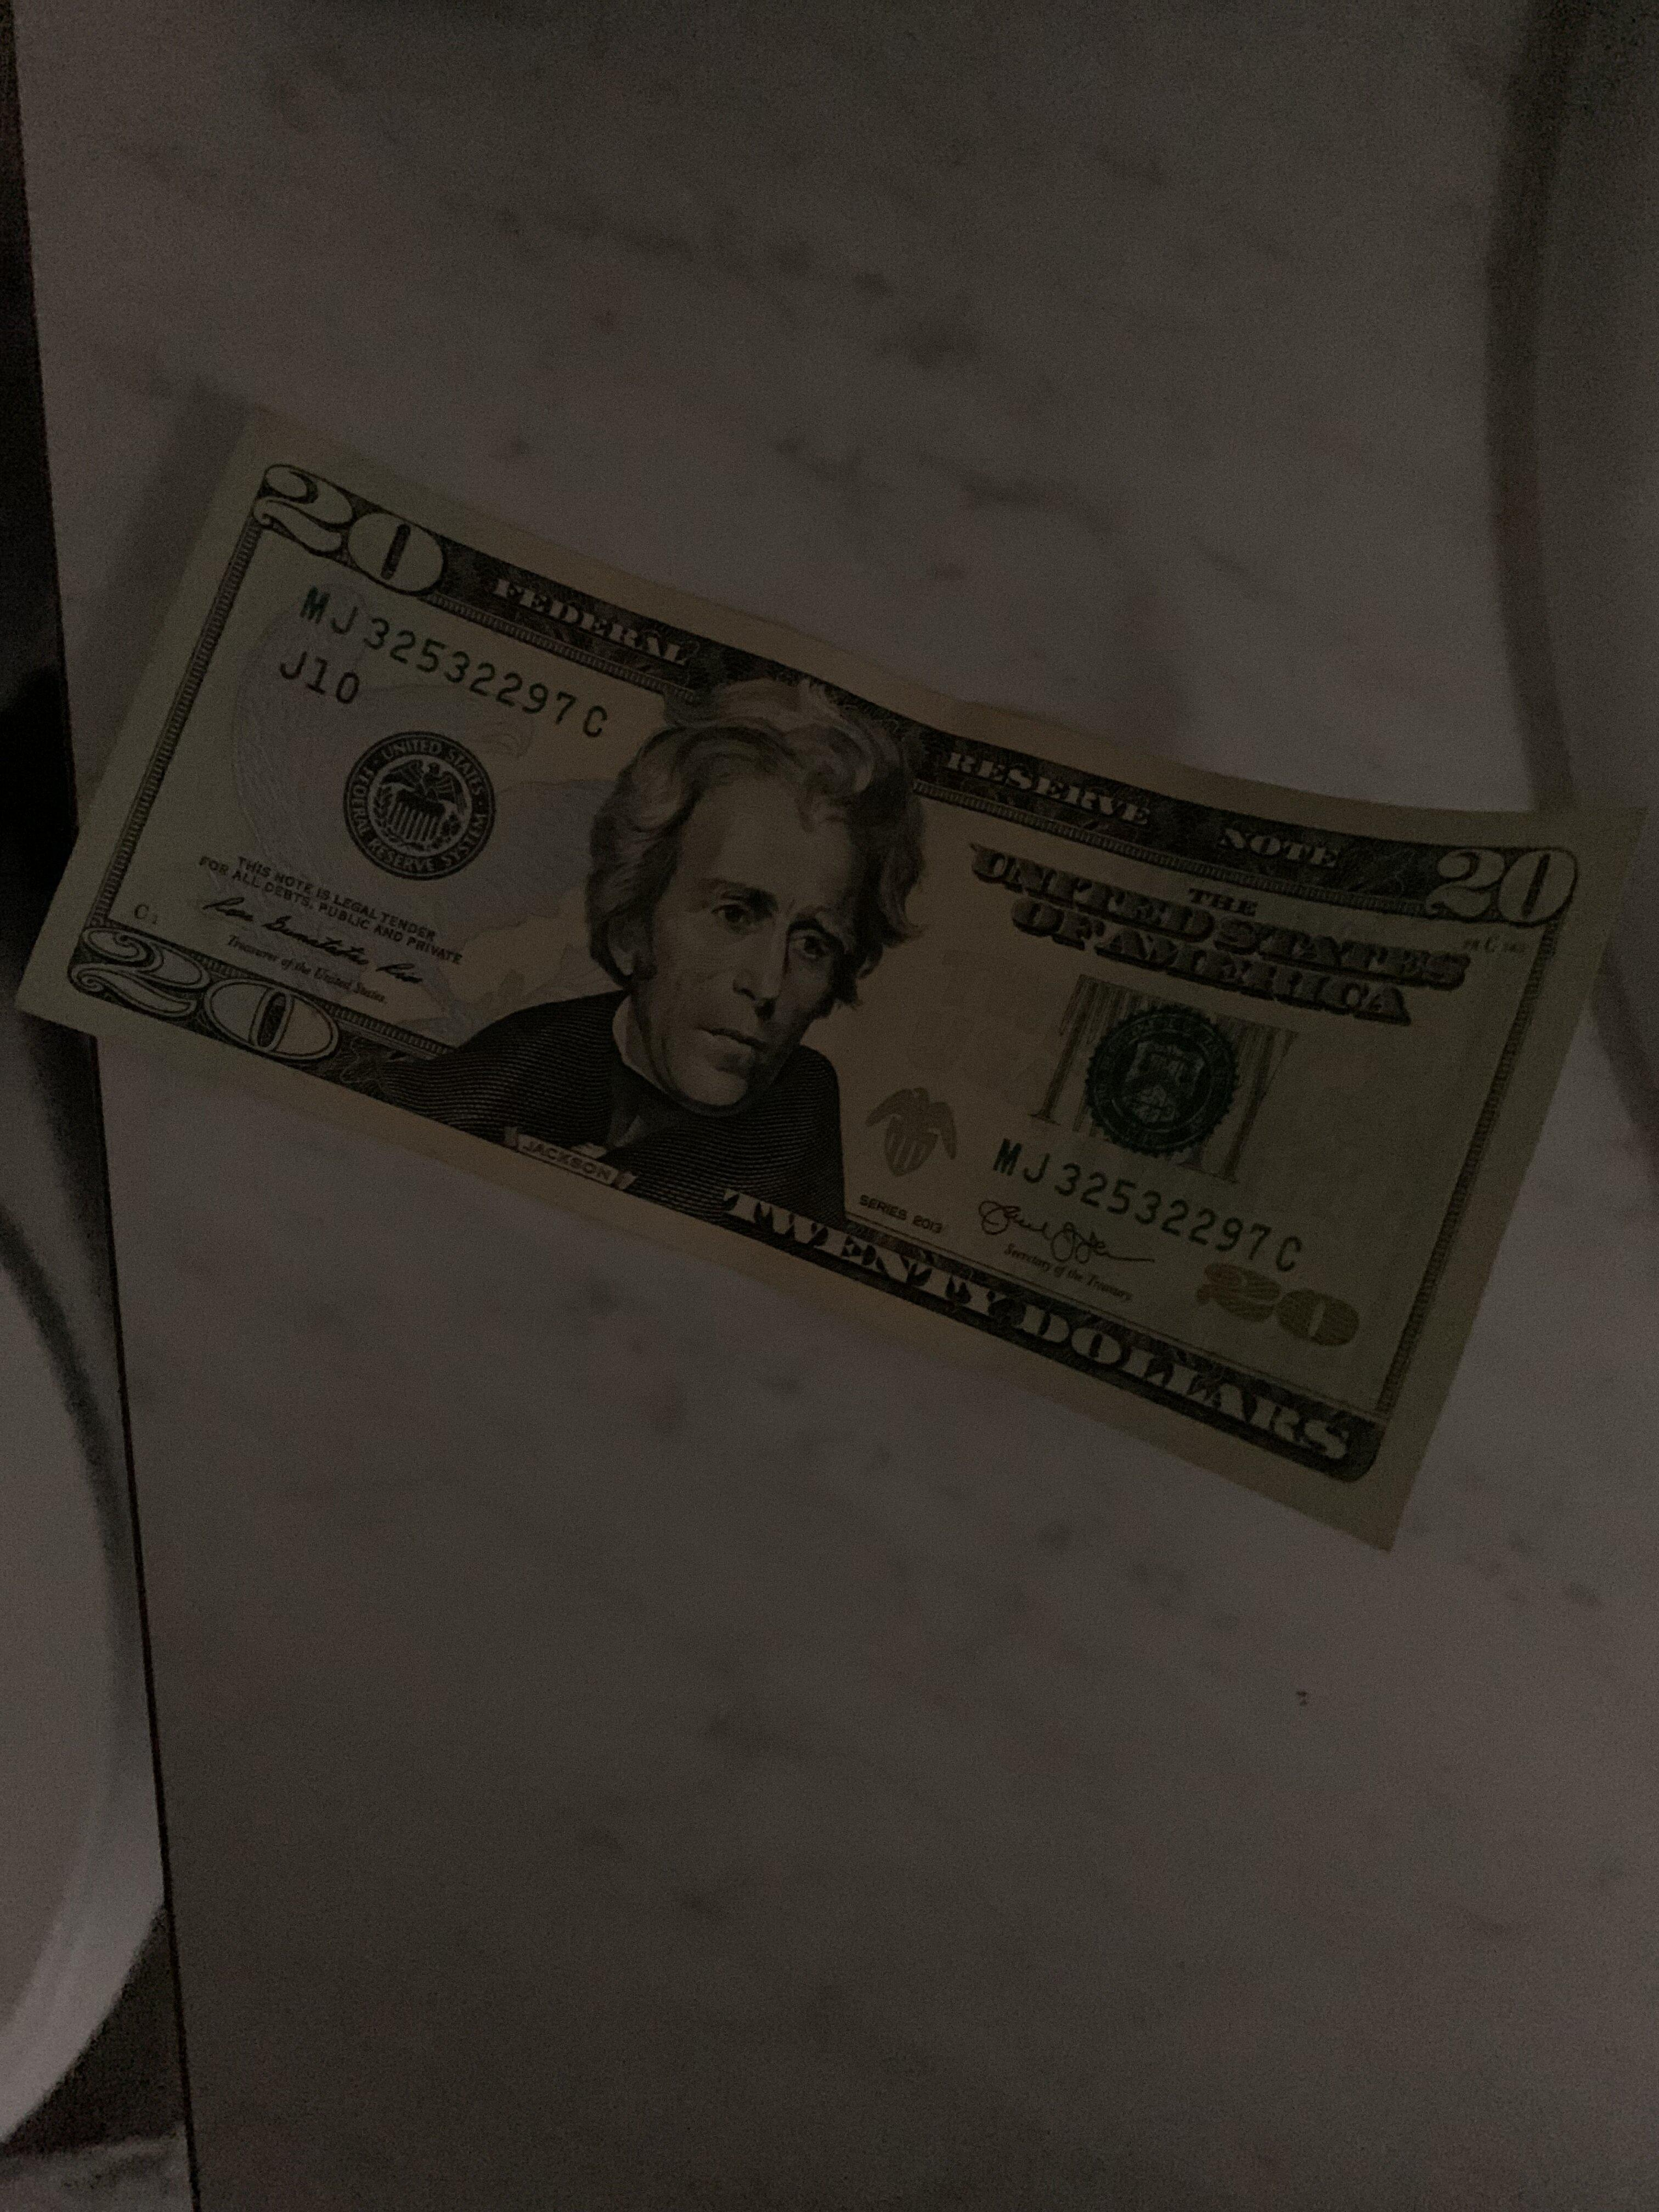TwentyBill: (7, 359, 1656, 1592)
